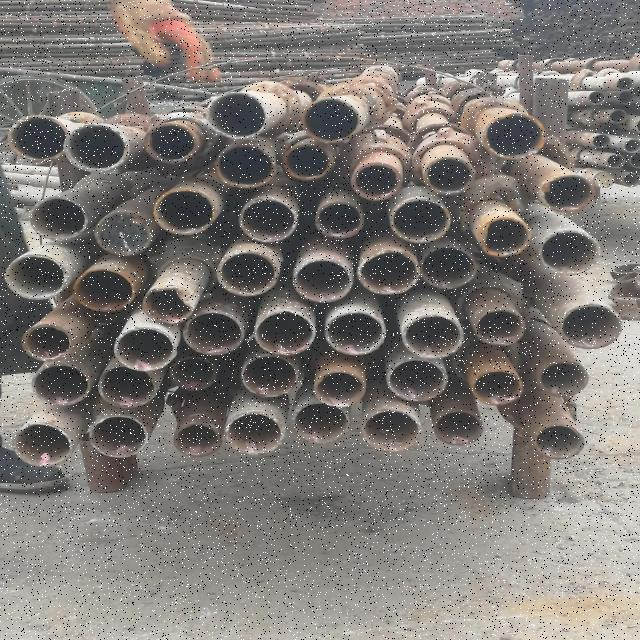pipe: (62, 123, 130, 173), (253, 307, 317, 357), (214, 249, 280, 297), (558, 302, 624, 350), (398, 313, 466, 359), (356, 248, 421, 296), (10, 421, 74, 469), (3, 254, 69, 300), (389, 196, 452, 244), (221, 409, 285, 456), (6, 114, 68, 162), (290, 258, 354, 304), (112, 326, 176, 372), (206, 91, 266, 140), (360, 406, 422, 453), (182, 310, 245, 356), (237, 353, 300, 399), (299, 96, 359, 144), (484, 111, 544, 159), (86, 414, 150, 459), (154, 189, 216, 235), (538, 229, 600, 275), (385, 357, 447, 403), (324, 311, 386, 356), (74, 268, 134, 314), (213, 143, 275, 187), (415, 246, 477, 290), (96, 364, 158, 408), (290, 400, 350, 444), (94, 212, 152, 256), (30, 364, 90, 406), (28, 197, 86, 240), (464, 367, 526, 407), (142, 122, 200, 164), (138, 284, 198, 324), (239, 199, 295, 241), (532, 358, 590, 398), (478, 216, 532, 258), (420, 155, 476, 195), (471, 307, 527, 347), (310, 369, 366, 408), (540, 174, 596, 212), (430, 409, 486, 447), (21, 323, 73, 363), (166, 355, 218, 393), (171, 420, 223, 458), (533, 422, 585, 460), (350, 162, 400, 199), (312, 201, 362, 237), (282, 146, 330, 178), (592, 170, 614, 188), (612, 75, 636, 91), (614, 88, 636, 105), (590, 132, 612, 148), (604, 152, 626, 168), (608, 108, 628, 124), (620, 137, 640, 153), (586, 90, 606, 105), (620, 172, 640, 187), (628, 153, 640, 170), (634, 115, 640, 134)
